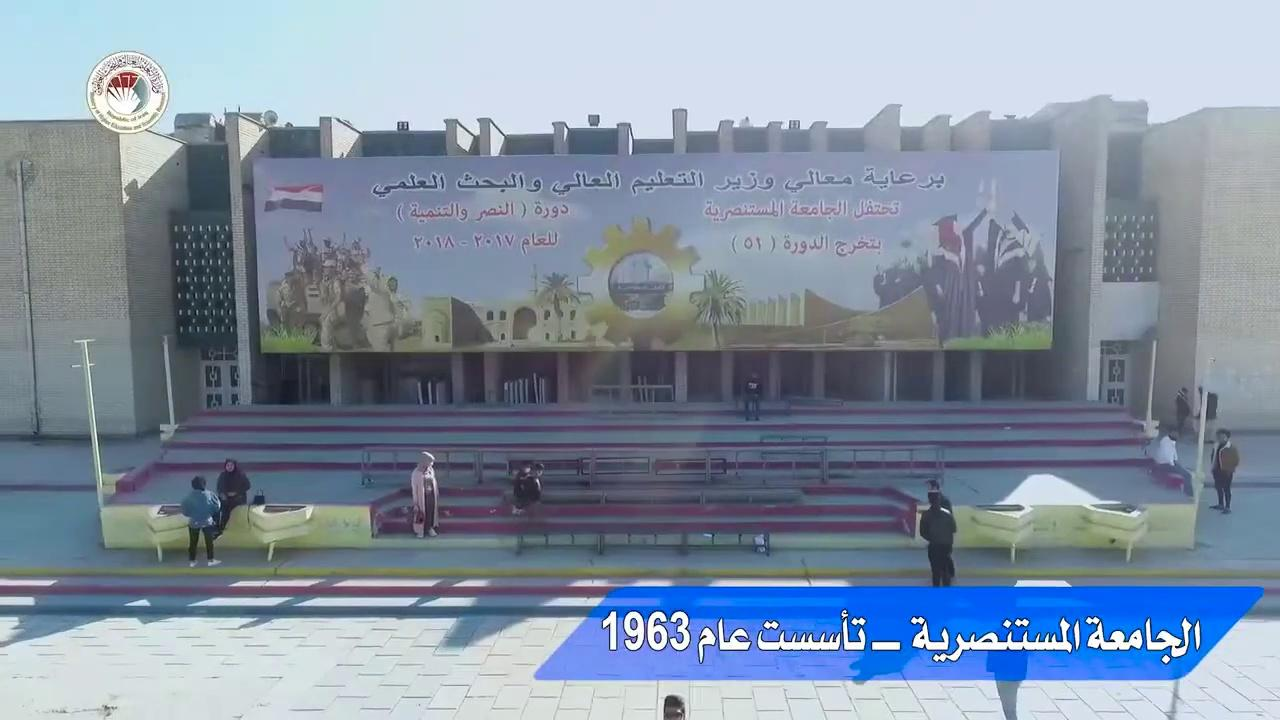fountain: (606, 249, 674, 318)
person: (179, 475, 222, 567), (918, 490, 957, 586), (985, 647, 1028, 719), (1152, 430, 1194, 496), (215, 458, 250, 537), (409, 450, 439, 537), (1208, 428, 1238, 513), (510, 461, 544, 516), (743, 372, 762, 421), (1174, 386, 1190, 435), (663, 694, 685, 719)
tree: (688, 267, 746, 349), (533, 270, 582, 341)
